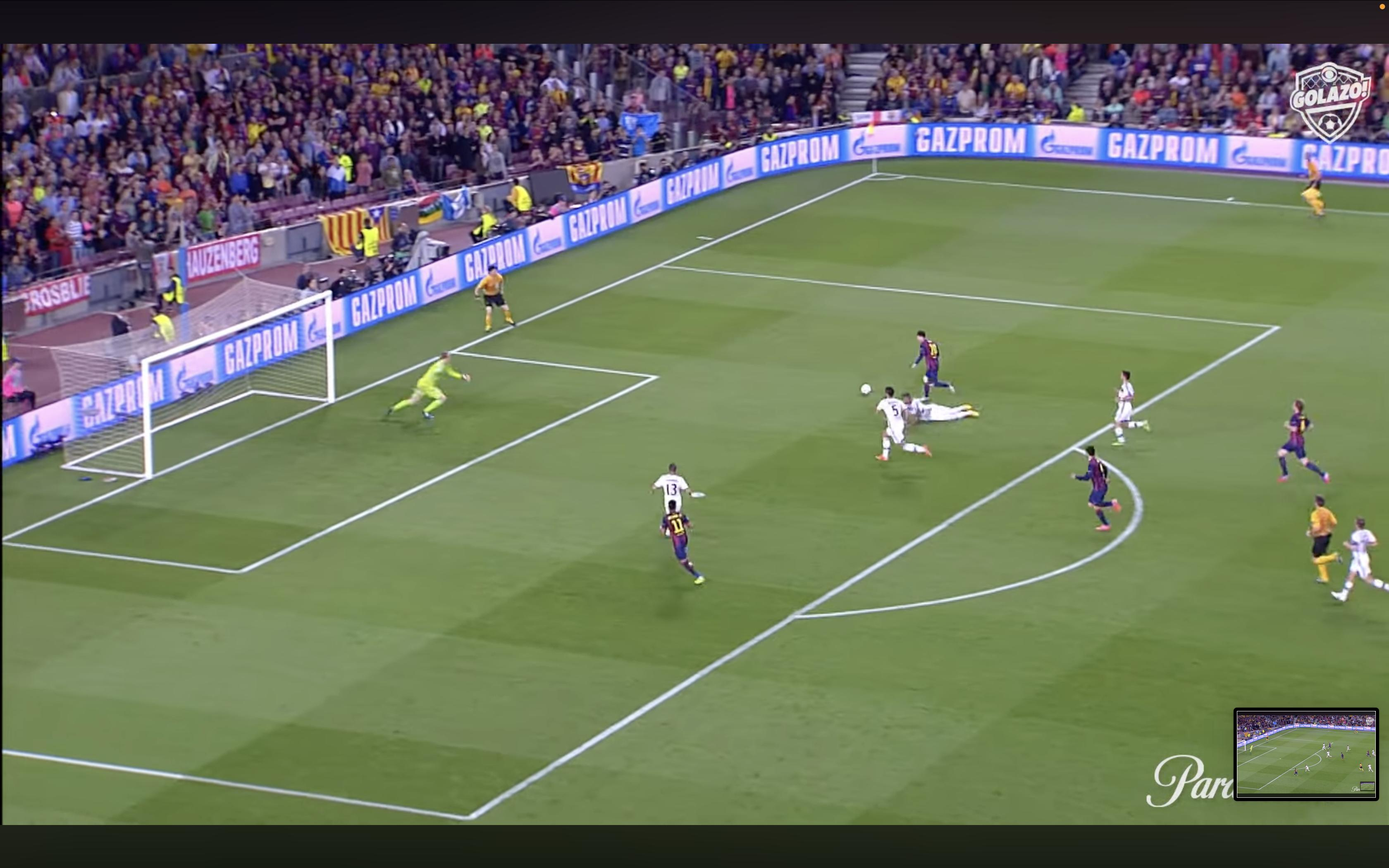ball: (860, 383, 872, 396)
goalkeeper: (386, 352, 470, 420)
player: (1332, 517, 1389, 602), (1277, 400, 1329, 483), (875, 386, 931, 461), (1072, 446, 1121, 531), (662, 500, 704, 584), (1112, 370, 1151, 446), (912, 331, 955, 398), (901, 393, 979, 423), (652, 463, 689, 511)
referee: (1306, 496, 1340, 583), (475, 265, 515, 331), (1301, 157, 1325, 216)
